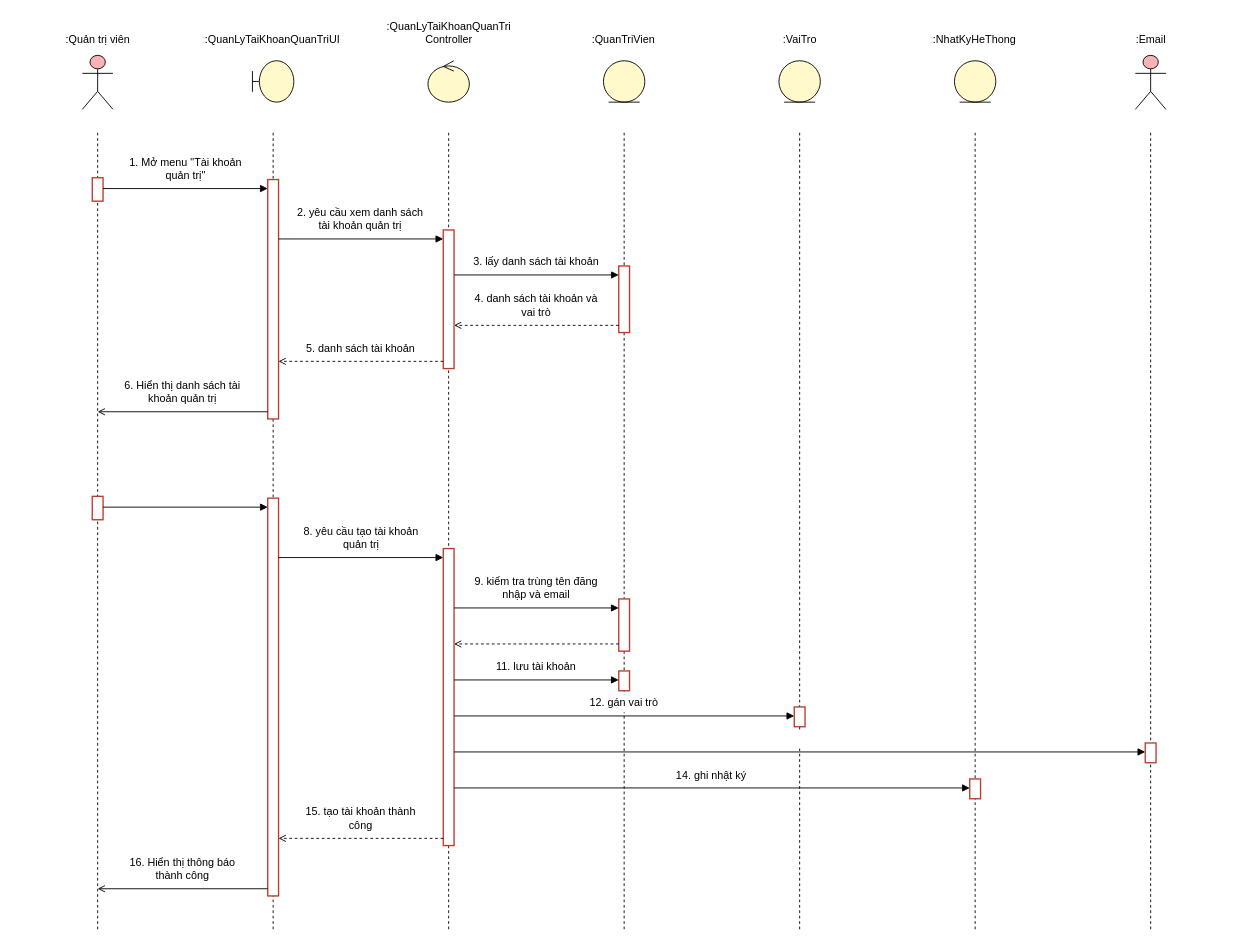
The diagram is 1248 pixels wide and 947 high, and some of its shapes have lost their labels. The shapes that lost their labels are listed below. From the top down, each one's box as (x1, y1, x2, y2) in pixels, then its label:
(112, 456, 257, 503): 7. Thêm tài khoản mới, nhập thông tin, chọn vai trò, "Lưu"
(502, 622, 569, 640): 10. hợp lệ
(701, 730, 896, 748): 13. gửi email thông báo tài khoản
